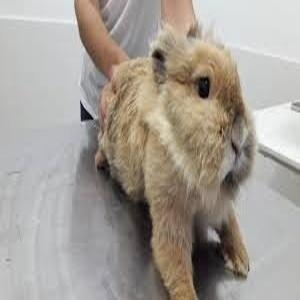rabbit: (77, 6, 258, 300)
